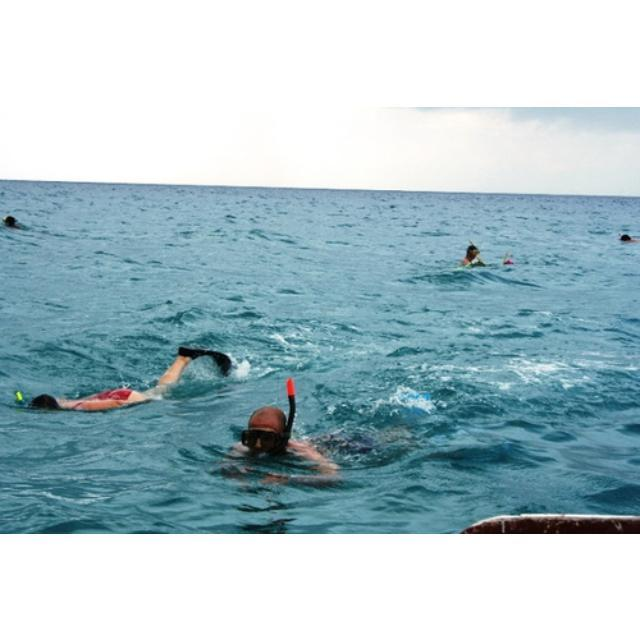human: (32, 343, 194, 410), (238, 405, 336, 492), (463, 242, 480, 266)
